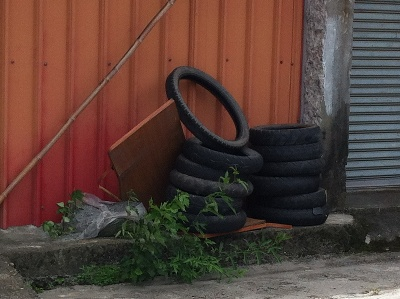tire: (162, 64, 249, 152), (181, 136, 264, 172), (170, 171, 254, 200), (246, 203, 331, 229), (246, 124, 324, 144), (251, 140, 325, 161), (252, 174, 323, 195), (260, 188, 327, 209), (260, 158, 328, 176)
